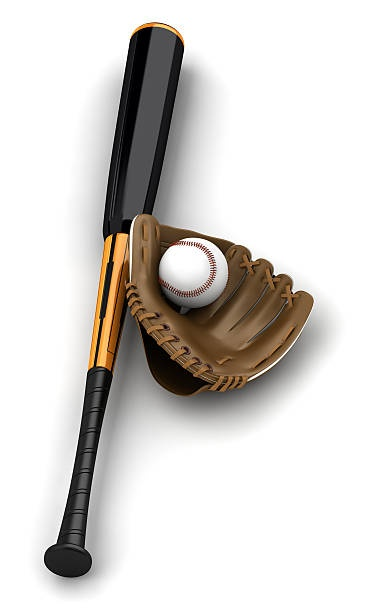bita: (36, 21, 184, 569)
